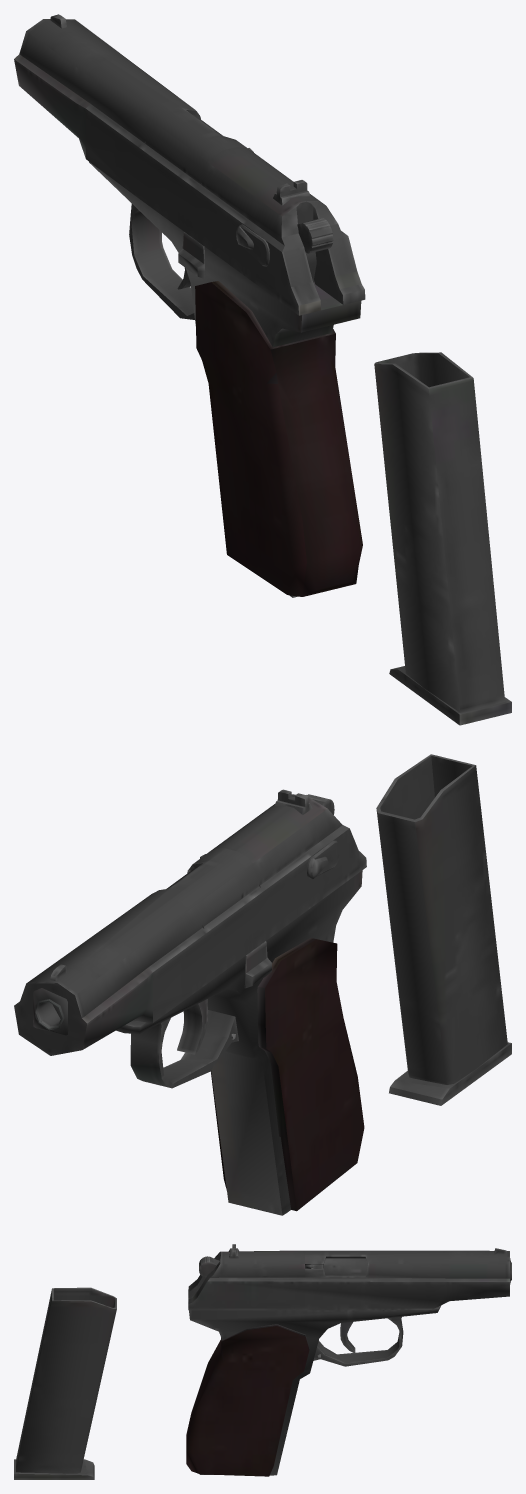
The model's file is 011_Pistol_MK_cc0_card.glb.
3 views of the same model, one above another, from view 1: azimuth 30°, elevation 25°; view 2: azimuth 150°, elevation 25°; view 3: azimuth 270°, elevation 25° (orthographic). The views are drawn at different scales.
Parts seen in each view (by area): view 1: Body, Slide, Magazine, Hammer, Safety; view 2: Body, Slide, Magazine, Trigger, Safety, Barrel; view 3: Body, Slide, Magazine, Barrel, Hammer, Trigger.
Boxes of the visible parts, <box> form: Body: <box>89,162,362,597</box>; Slide: <box>14,14,365,315</box>; Magazine: <box>374,352,511,725</box>; Hammer: <box>297,218,333,281</box>; Safety: <box>236,224,269,266</box>; Body: <box>116,870,364,1215</box>; Slide: <box>14,789,366,1055</box>; Magazine: <box>376,754,511,1105</box>; Trigger: <box>177,999,207,1054</box>; Safety: <box>307,840,339,879</box>; Barrel: <box>35,868,195,1030</box>; Body: <box>186,1305,441,1476</box>; Slide: <box>188,1244,510,1310</box>; Magazine: <box>14,1287,116,1479</box>; Barrel: <box>323,1258,511,1280</box>; Hammer: <box>199,1256,219,1277</box>; Trigger: <box>340,1321,355,1352</box>.
Size of the model in its own units: 0.0257 by 0.1276 by 0.2557.
1 material, 1 textured.
